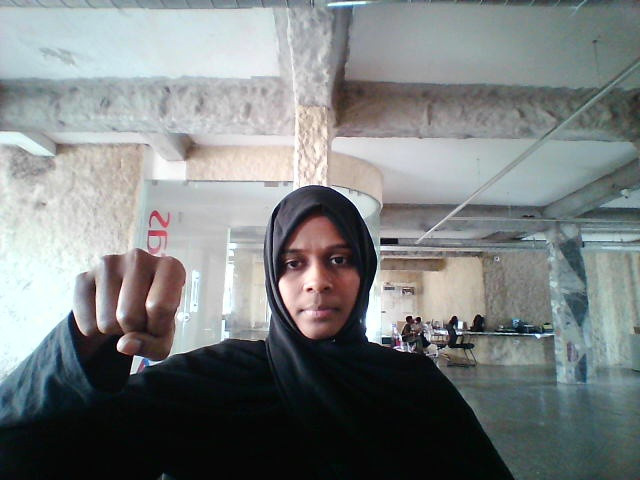YES: (38, 236, 208, 361)
